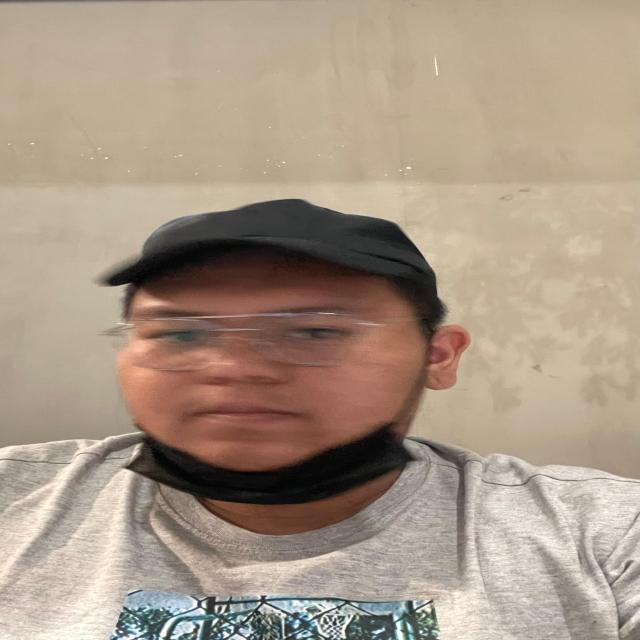3_gorra: (89, 196, 442, 291)
